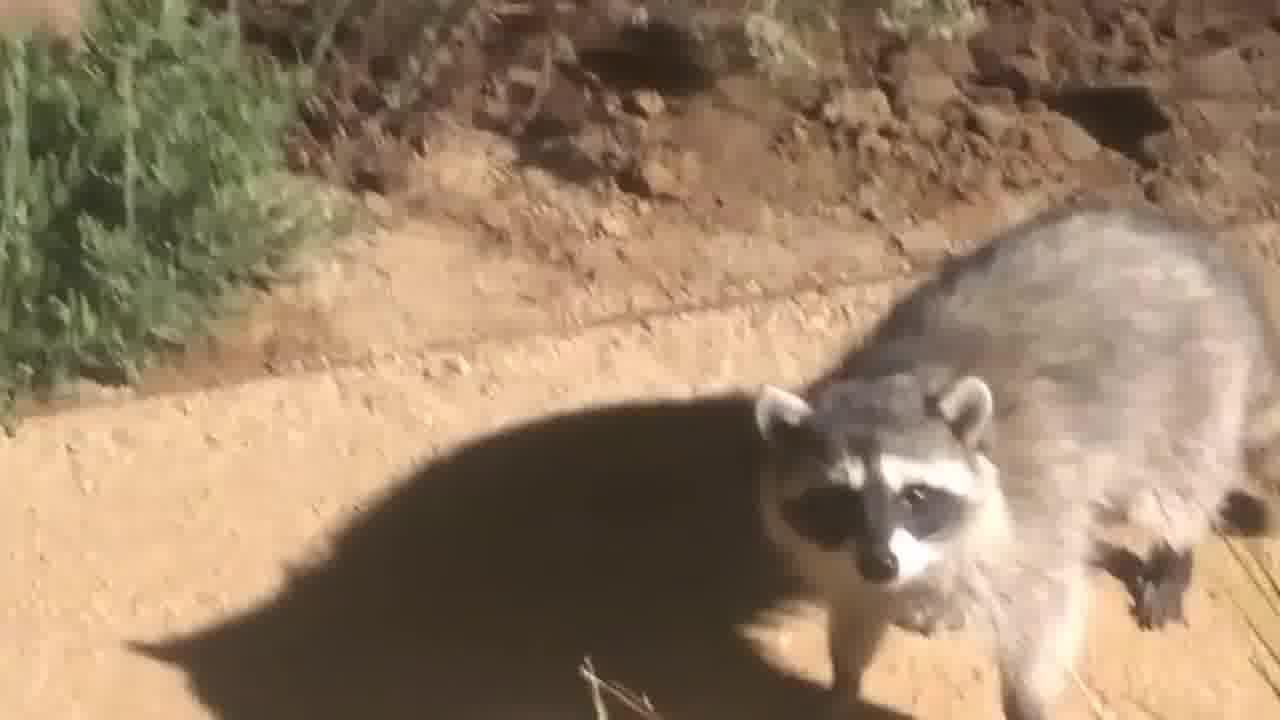raccoon: (738, 196, 1280, 720)
